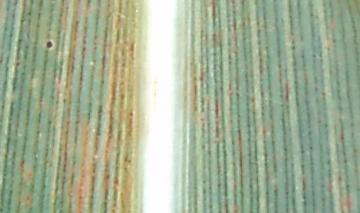tarspot: (43, 39, 55, 51), (127, 109, 136, 118)
